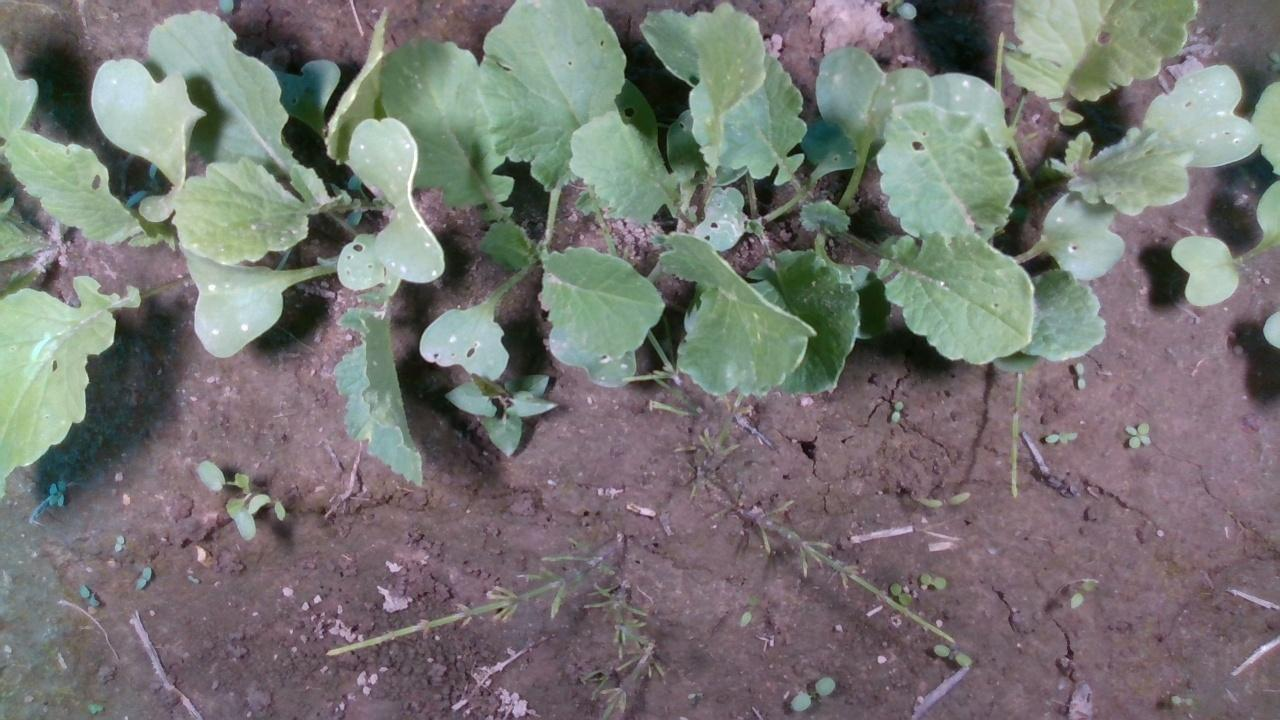weed: (914, 490, 972, 508), (1122, 422, 1151, 447), (1042, 428, 1078, 445), (915, 572, 946, 587), (1073, 360, 1087, 390), (888, 397, 904, 420)
